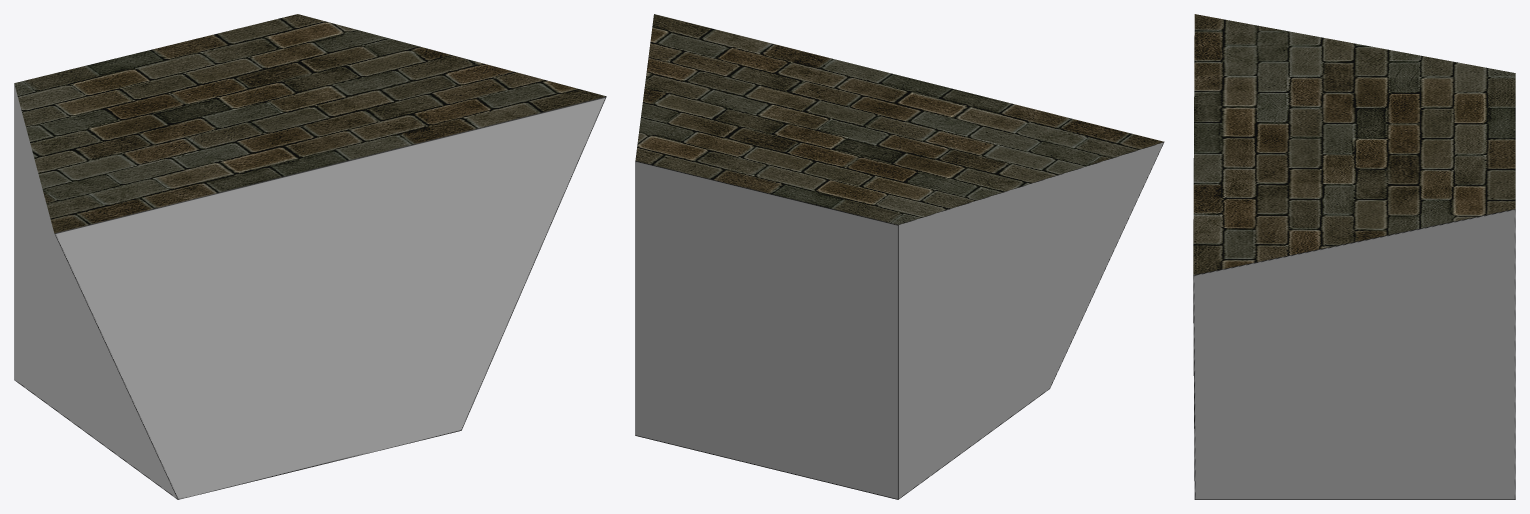
The picture shows the model from 3 angles, left to right: view 1: azimuth 30°, elevation 25°; view 2: azimuth 150°, elevation 25°; view 3: azimuth 270°, elevation 25°; orthographic projection. The views are drawn at different scales.
Parts seen in each view (by area): view 1: Cube; view 2: Cube; view 3: Cube.
Boxes of the visible parts, x1,y1,x2,y2 form: Cube: (14, 14, 606, 499); Cube: (635, 14, 1164, 499); Cube: (1193, 14, 1515, 499).
Bounding box in the file's own units: 3.89 × 2.02 × 2.01.
1 material, 1 textured.
